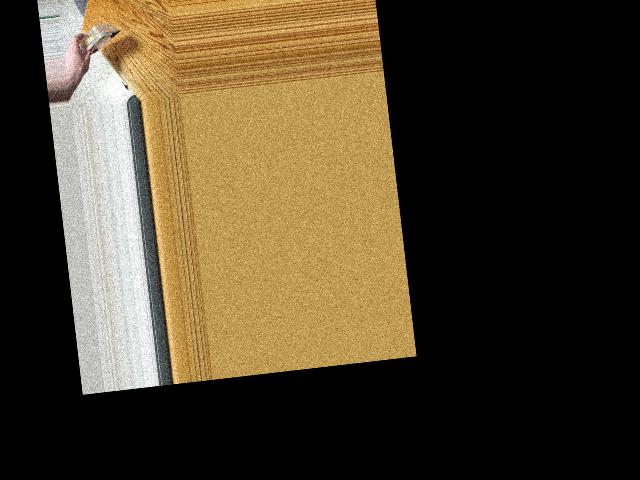cheese: (65, 11, 114, 73)
